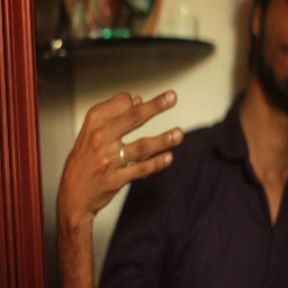K: (66, 89, 184, 204)
